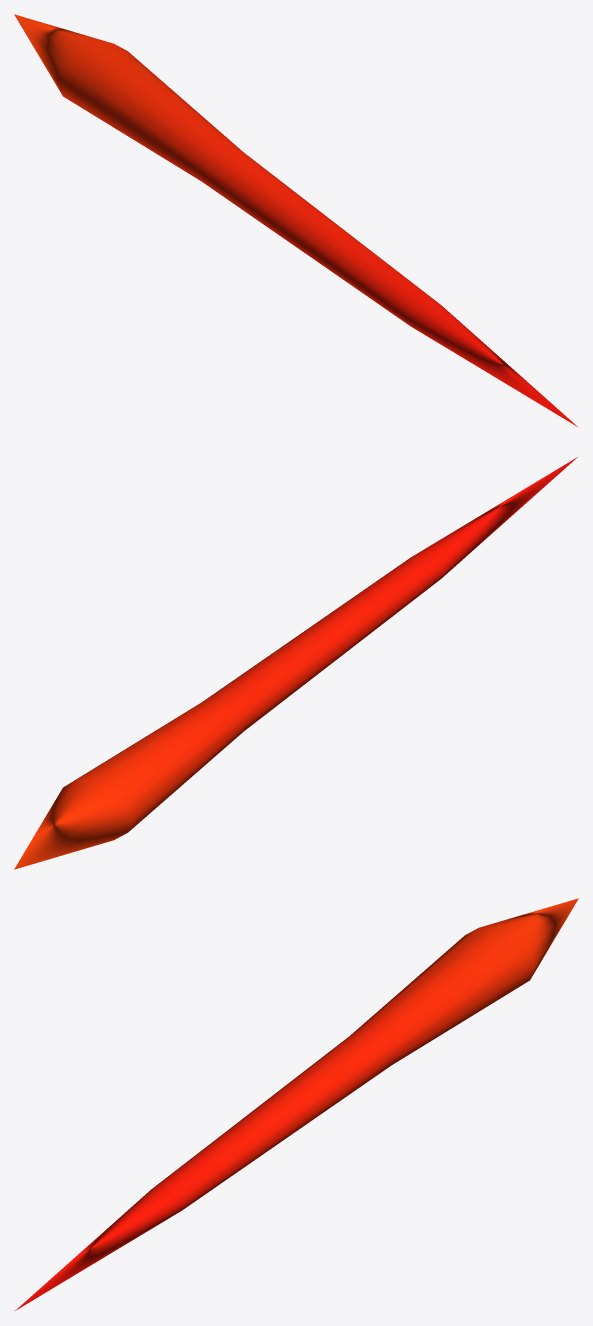
File: Amber_Arrow.fbx
3 renders of one model, top to bottom at view 1: azimuth 30°, elevation 25°; view 2: azimuth 150°, elevation 25°; view 3: azimuth 330°, elevation 25°, orthographic.
Parts seen in each view (by area): view 1: Arrow_SoftFlameEnvelope; view 2: Arrow_SoftFlameEnvelope; view 3: Arrow_SoftFlameEnvelope.
Boxes of the visible parts, left/top/right/bottom form: Arrow_SoftFlameEnvelope: left=14, top=14, right=577, bottom=426; Arrow_SoftFlameEnvelope: left=14, top=457, right=577, bottom=869; Arrow_SoftFlameEnvelope: left=15, top=898, right=578, bottom=1310.
Size of the model in its own units: 17 by 12.75 by 222.
